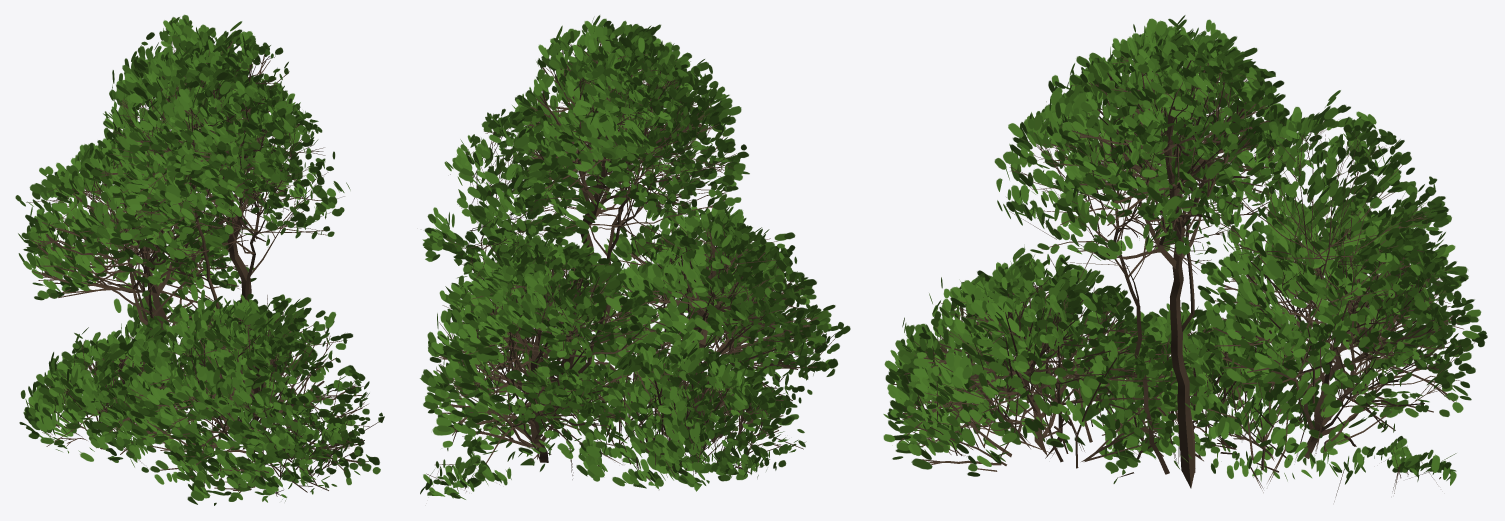
The picture shows the model from 3 angles, left to right: view 1: azimuth 30°, elevation 25°; view 2: azimuth 150°, elevation 25°; view 3: azimuth 270°, elevation 25°; orthographic projection. The views are drawn at different scales.
Parts seen in each view (by area): view 1: oak 01.001_trunk_Mat.001_0.507; view 2: oak 01.001_trunk_Mat.001_0.507; view 3: oak 01.001_trunk_Mat.001_0.507.
Boxes of the visible parts, left/top/right/bottom form: oak 01.001_trunk_Mat.001_0.507: left=15, top=14, right=384, bottom=505; oak 01.001_trunk_Mat.001_0.507: left=420, top=15, right=850, bottom=499; oak 01.001_trunk_Mat.001_0.507: left=883, top=15, right=1487, bottom=501.
Bounding box in the file's own units: 3.2 × 4.52 × 5.59.
Materials: 2 (1 with a texture image).
